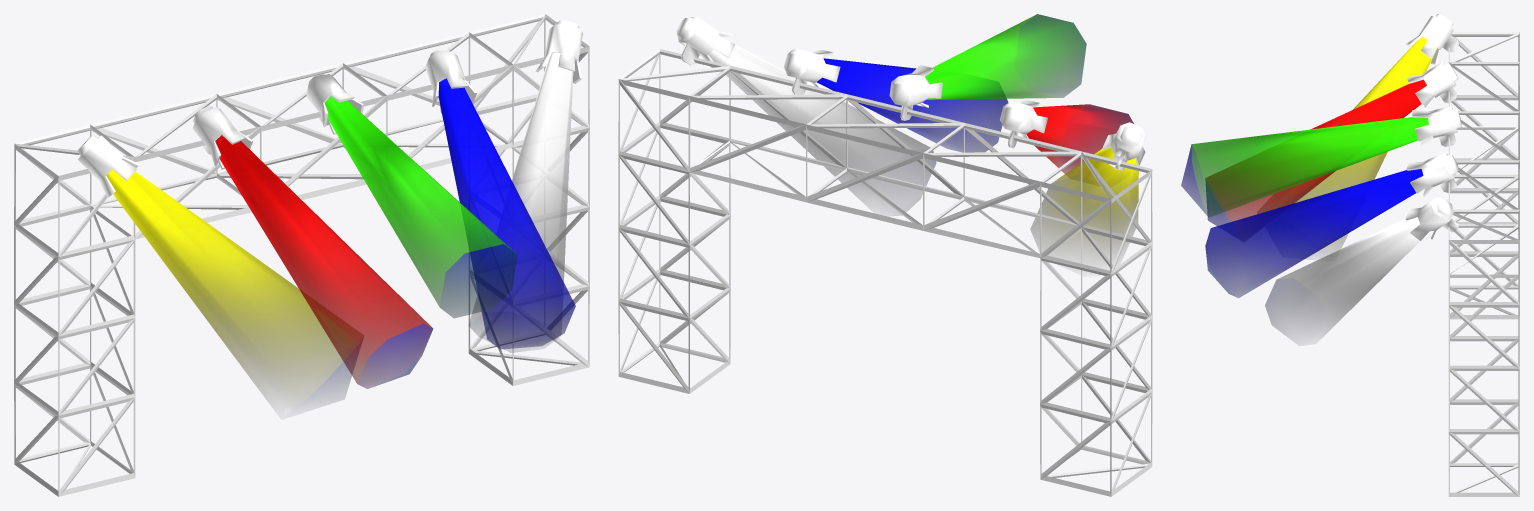
3 views of the same model, side by side, from view 1: azimuth 30°, elevation 25°; view 2: azimuth 150°, elevation 25°; view 3: azimuth 270°, elevation 25° (orthographic). The views are drawn at different scales.
Visible parts, largest first — view 1: StageTrussLightLightingOn; view 2: StageTrussLightLightingOn; view 3: StageTrussLightLightingOn.
Boxes of the visible parts, box(x1,y1,x2,y2) form: StageTrussLightLightingOn: box(14, 14, 589, 496); StageTrussLightLightingOn: box(618, 14, 1152, 496); StageTrussLightLightingOn: box(1181, 14, 1519, 496).
Size of what is drawn, in the model's own units: 14.03 by 9.03 by 9.68.
2 materials, 2 textured.
